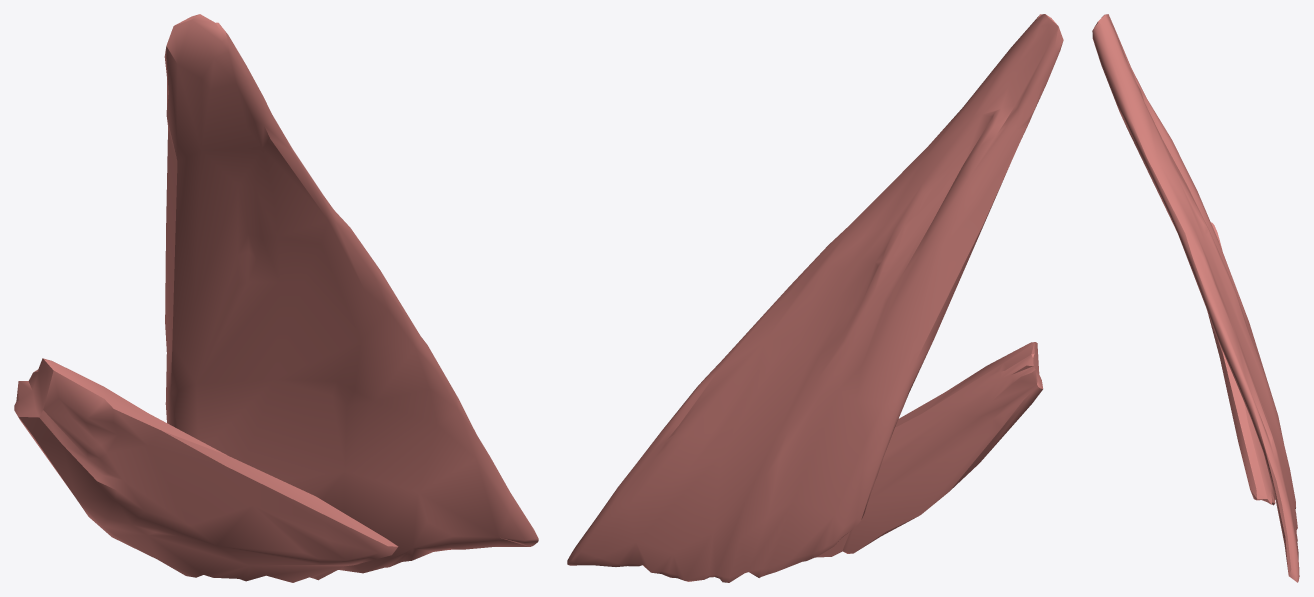
File: fma82373_mm4004.glb
The picture shows the model from 3 angles, left to right: view 1: azimuth 30°, elevation 25°; view 2: azimuth 150°, elevation 25°; view 3: azimuth 270°, elevation 25°; orthographic projection. The views are drawn at different scales.
Visible parts, largest first — view 1: FMA82373_MM4004; view 2: FMA82373_MM4004; view 3: FMA82373_MM4004.
Part boxes in pixels (x1=…): FMA82373_MM4004: x1=14, y1=14, x2=538, y2=582; FMA82373_MM4004: x1=567, y1=14, x2=1063, y2=582; FMA82373_MM4004: x1=1092, y1=14, x2=1299, y2=582.
Bounding box in the file's own units: 0.037 × 0.0463 × 0.0201.
